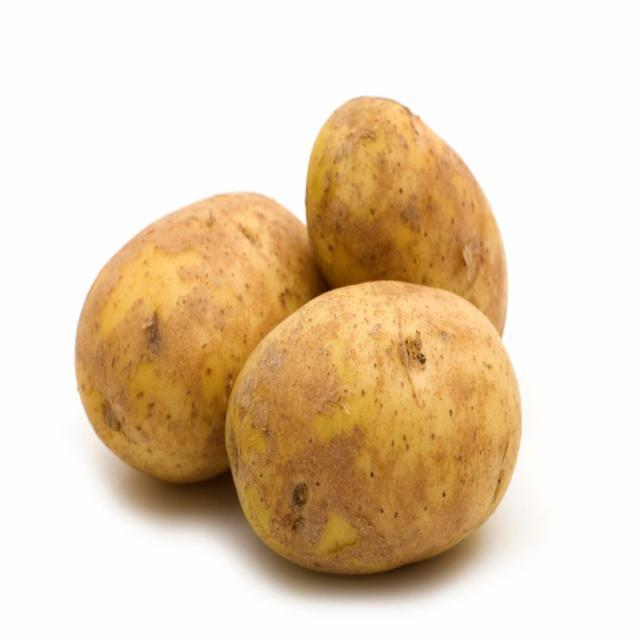potato: (219, 272, 526, 589), (67, 181, 326, 496), (302, 91, 512, 342)
